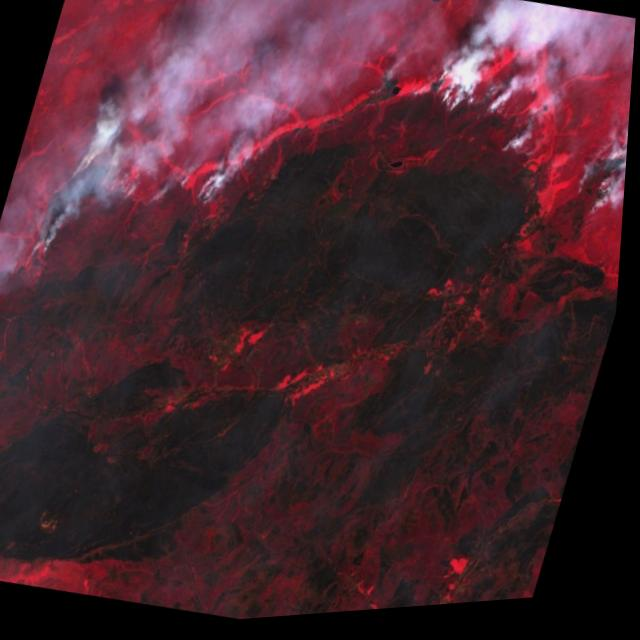fire: (328, 34, 636, 289), (0, 116, 253, 356)
